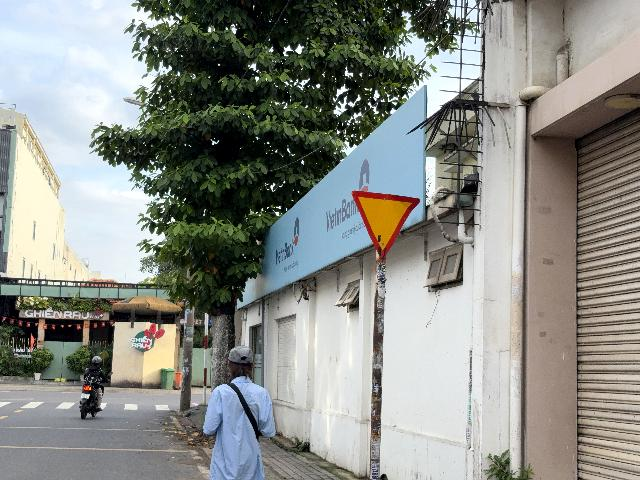giao-nhau-voi-duong-uu-tien: (351, 190, 420, 261)
